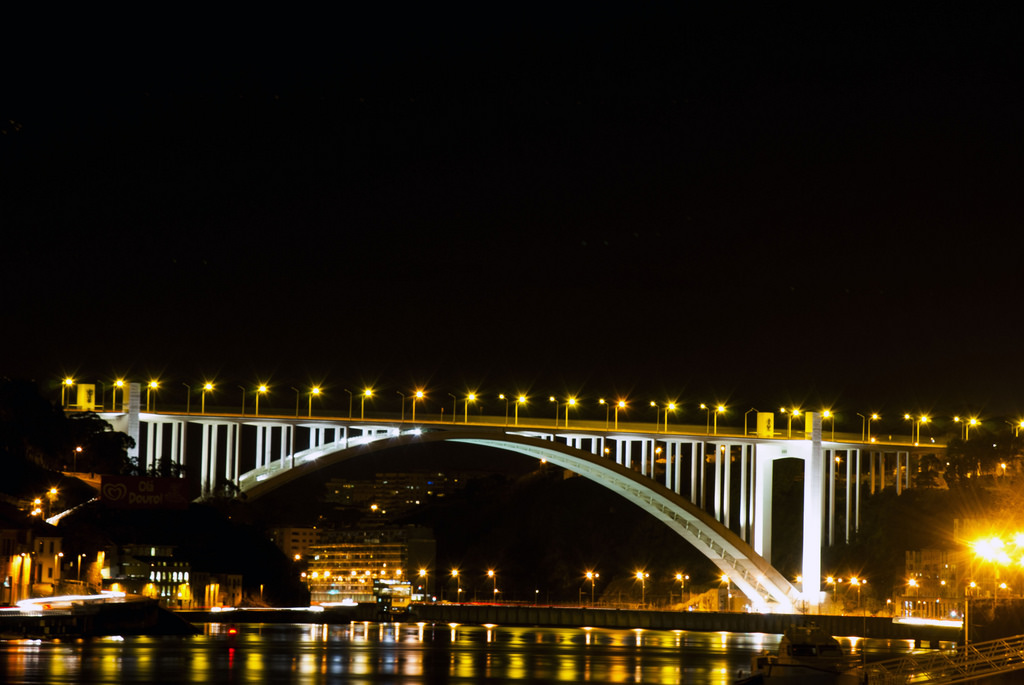arrabida: (63, 381, 954, 616)
